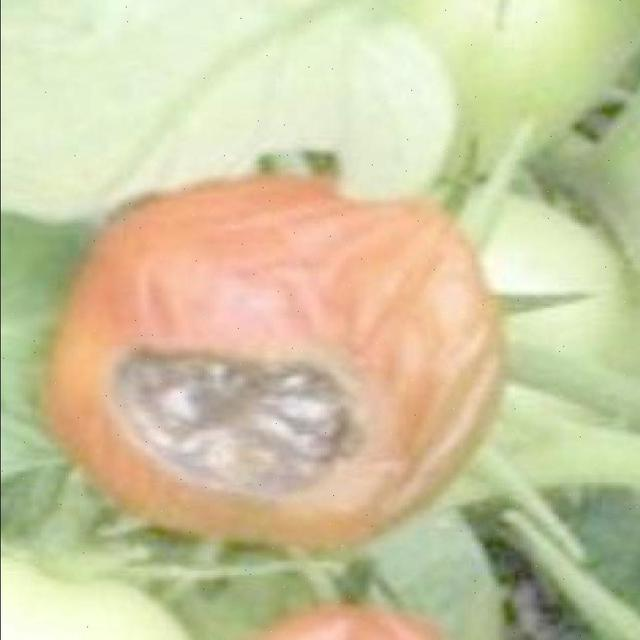Blossom End Rot Fruit: (68, 229, 246, 332)
